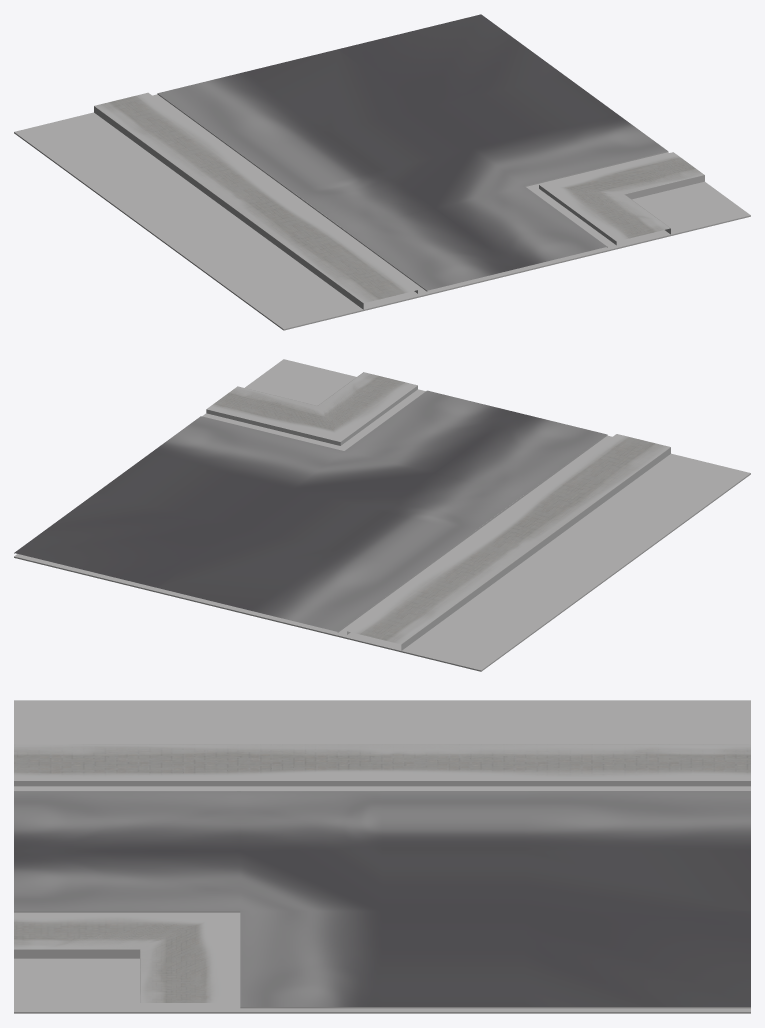
File: Single_Carpark_Entry.fbx
3 views of the same model, one above another, from view 1: azimuth 30°, elevation 25°; view 2: azimuth 150°, elevation 25°; view 3: azimuth 270°, elevation 25° (orthographic). The views are drawn at different scales.
Visible parts, largest first — view 1: Road_10X48, Road_10X44; view 2: Road_10X48, Road_10X44; view 3: Road_10X48, Road_10X44.
Boxes of the visible parts, <box> form: Road_10X48: <box>94,14,704,309</box>; Road_10X44: <box>14,112,750,330</box>; Road_10X48: <box>14,372,670,650</box>; Road_10X44: <box>14,359,750,671</box>; Road_10X48: <box>14,744,750,1008</box>; Road_10X44: <box>14,700,750,1013</box>.
Size of the model in its own units: 1000 by 15.99 by 1000.
